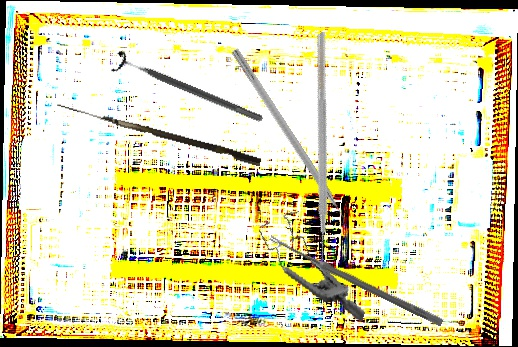Chopper: (202, 30, 428, 274), (221, 47, 356, 240)
Fixation Ring: (110, 48, 267, 131)
Hook Surgical: (54, 103, 263, 167)
Speculum: (243, 202, 386, 323)
Surgical Spoon: (267, 234, 445, 327)
